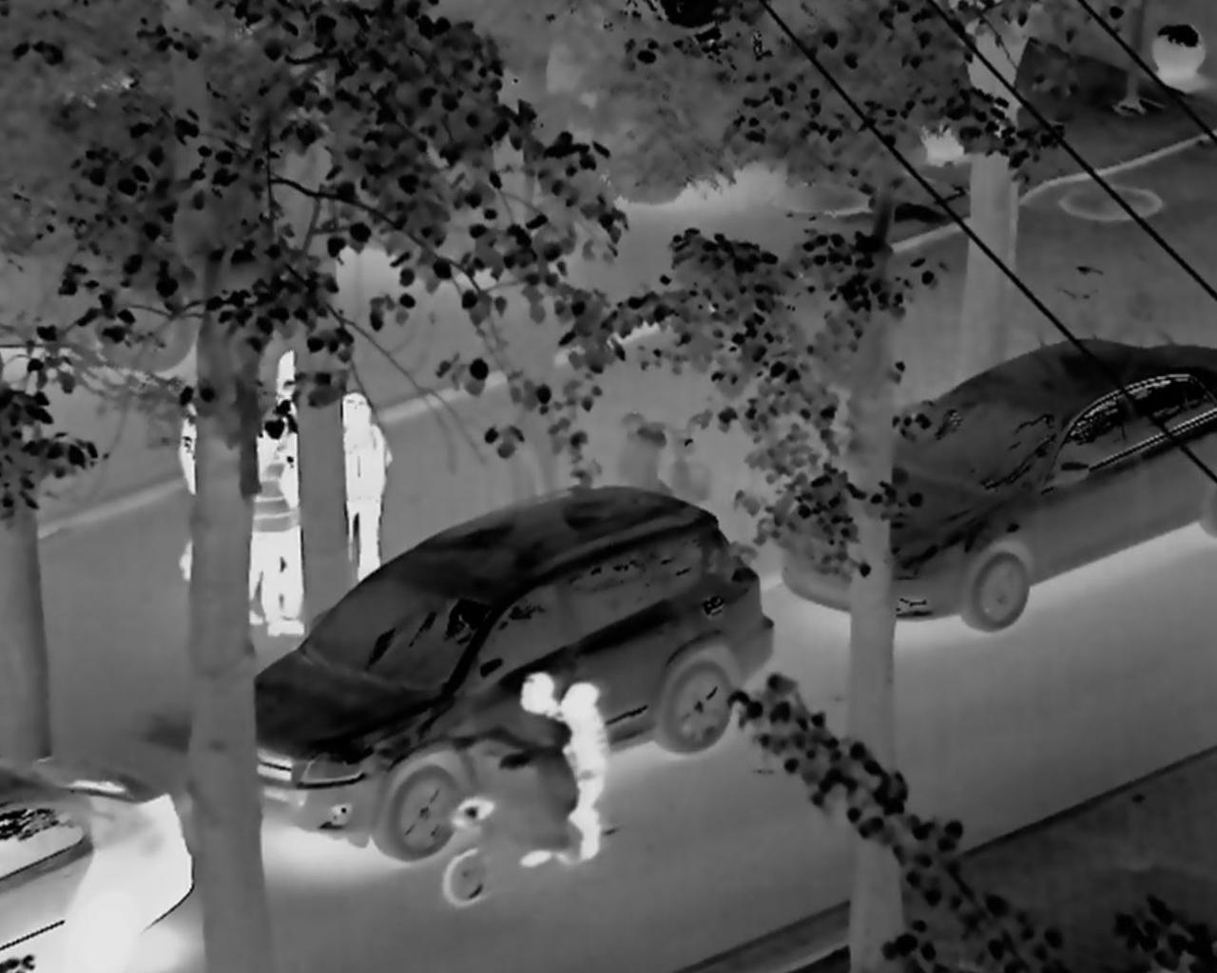person: (460, 667, 627, 896), (238, 385, 305, 623), (332, 385, 396, 567), (162, 395, 217, 601)
